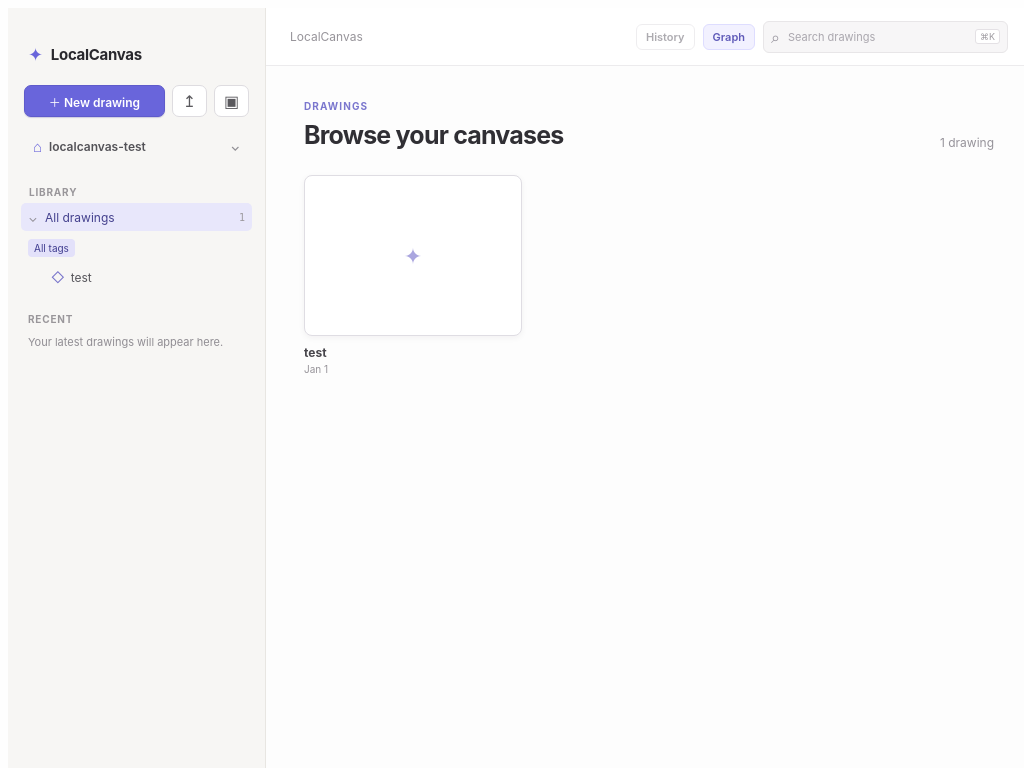
Test: App autosave wiring › opens version history after flushing the active canvas
The image size is (1024, 768).
Click the button titled "test.excalidraw" at (136, 277), box [21,263,252,291]
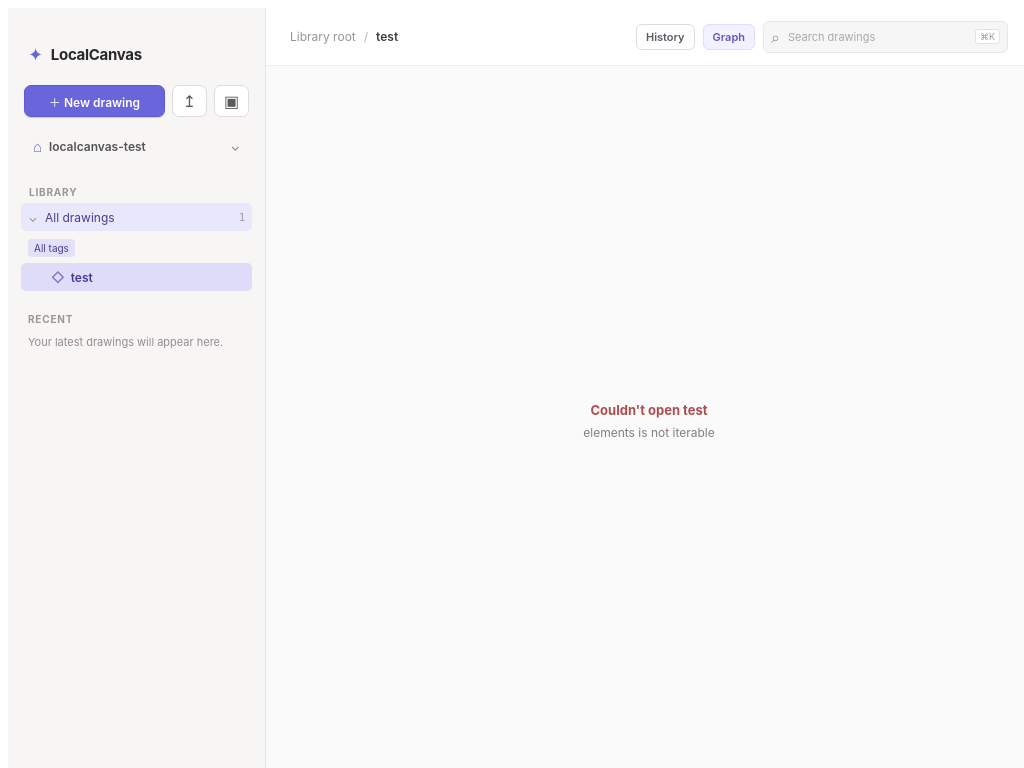
Click the button "History" at (665, 36), box [636,24,695,50]
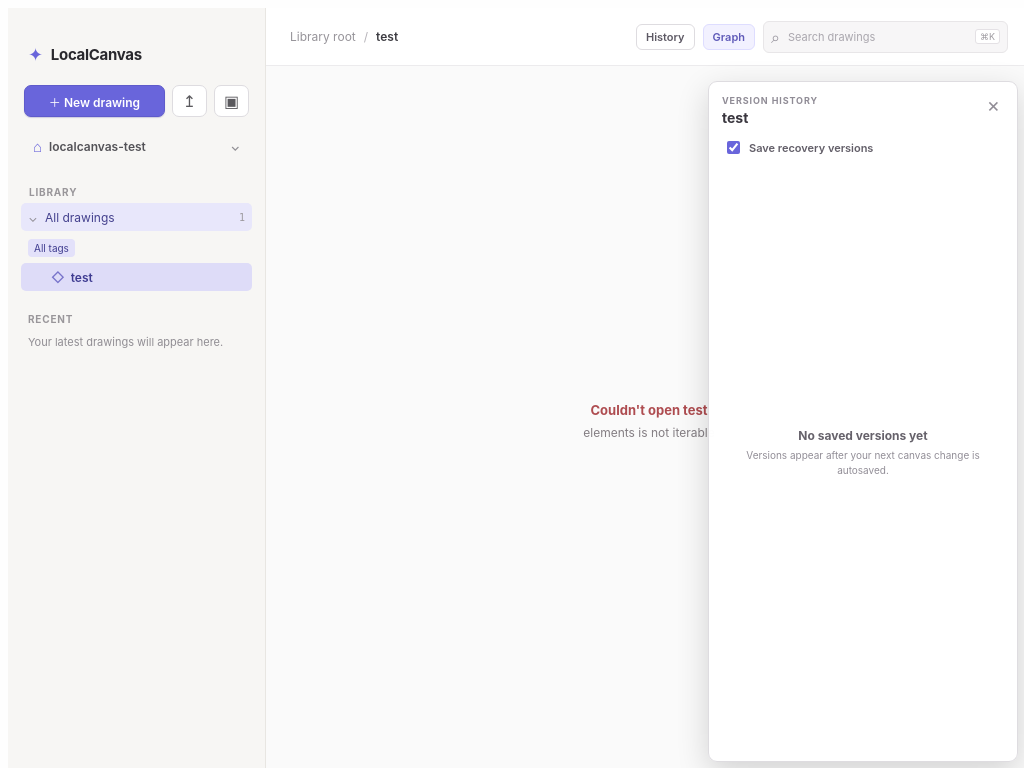
Now the element labelled "VERSION HISTORY" is shown, box [708,81,1018,762]
